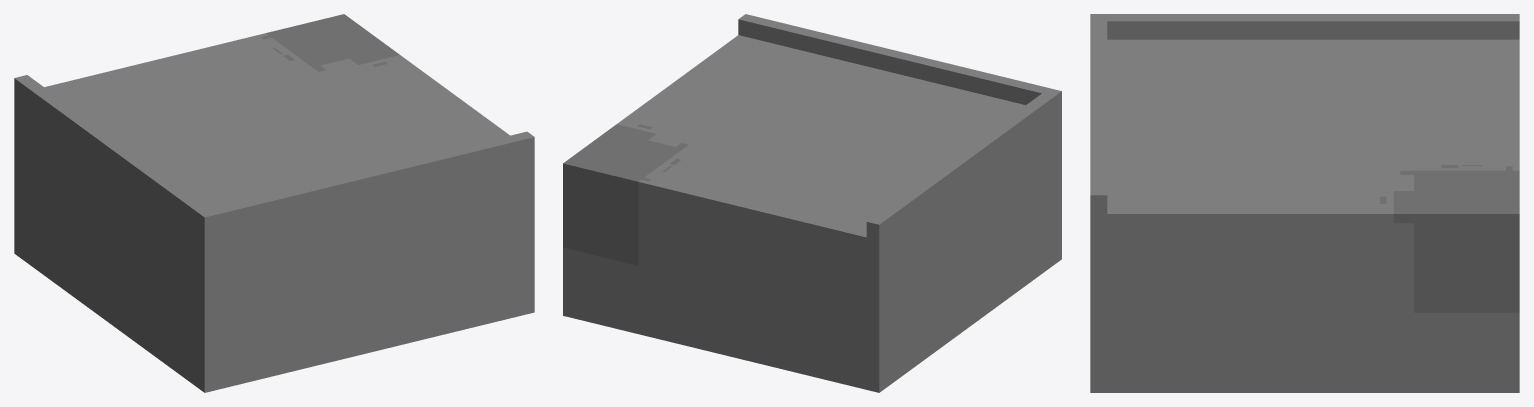
The model's file is 4x2 roof (1)-2.obj.
The picture shows the model from 3 angles, left to right: view 1: azimuth 30°, elevation 25°; view 2: azimuth 150°, elevation 25°; view 3: azimuth 270°, elevation 25°; orthographic projection. The views are drawn at different scales.
Parts seen in each view (by area): view 1: 4x2 roof (1)-2; view 2: 4x2 roof (1)-2; view 3: 4x2 roof (1)-2.
Boxes of the visible parts, x1=… form: 4x2 roof (1)-2: x1=14, y1=14, x2=534, y2=392; 4x2 roof (1)-2: x1=563, y1=14, x2=1061, y2=392; 4x2 roof (1)-2: x1=1090, y1=14, x2=1519, y2=392.
Size of the model in its own units: 126 by 64 by 126.
Materials: 1 (1 with a texture image).
